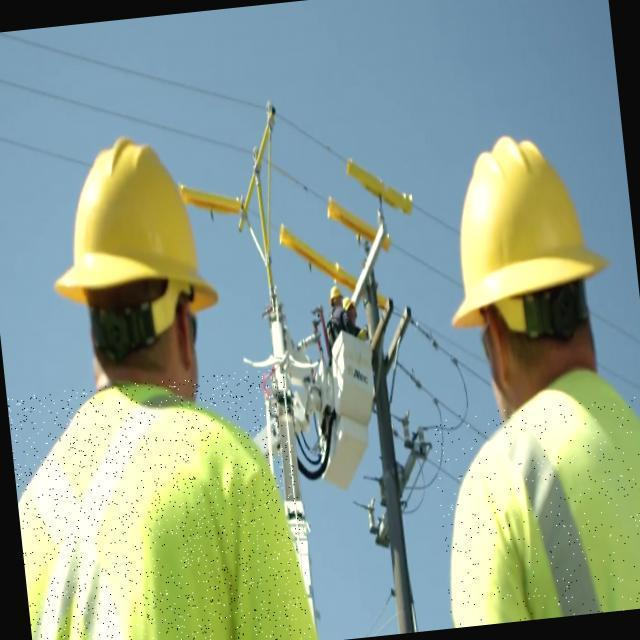helmet: (445, 125, 619, 332), (57, 129, 225, 323)
vest: (6, 367, 312, 640), (429, 394, 640, 628)
